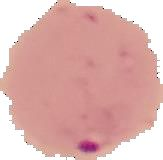parasitized: (9, 6, 160, 153), (20, 15, 163, 158), (64, 101, 122, 156)
